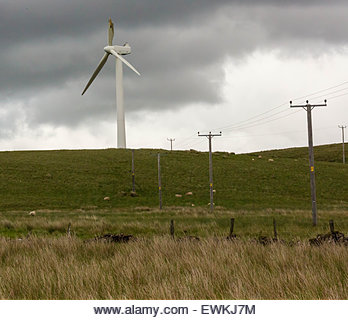faulty: (81, 18, 142, 101)
